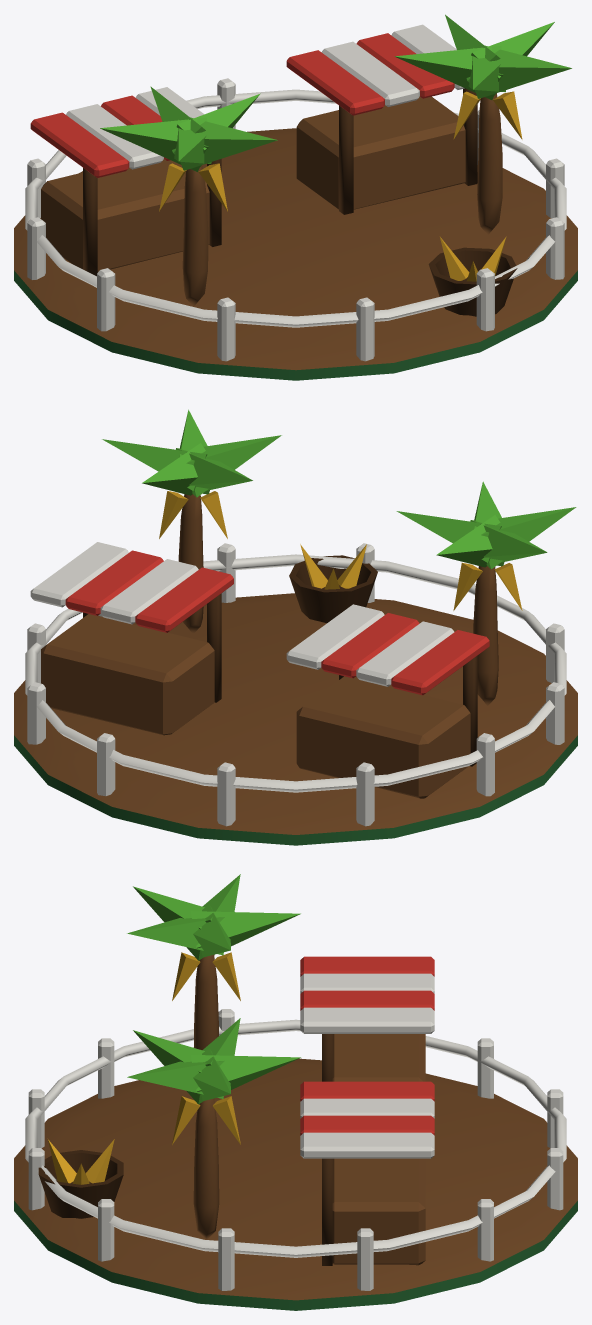
The picture shows the model from 3 angles, top to bottom: view 1: azimuth 30°, elevation 25°; view 2: azimuth 150°, elevation 25°; view 3: azimuth 270°, elevation 25°; orthographic projection.
Parts seen in each view (by area): view 1: fazenda_0_base, fazenda_1_torreta; view 2: fazenda_0_base, fazenda_1_torreta; view 3: fazenda_0_base, fazenda_1_torreta.
Part boxes in pixels (x1,y1,x2,y2): fazenda_0_base: (14,24,577,380); fazenda_1_torreta: (100,14,571,306); fazenda_0_base: (14,542,577,845); fazenda_1_torreta: (102,409,576,705); fazenda_0_base: (14,956,577,1310); fazenda_1_torreta: (127,874,300,1239).
Bounding box in the file's own units: 1.28 × 0.5151 × 1.26.
